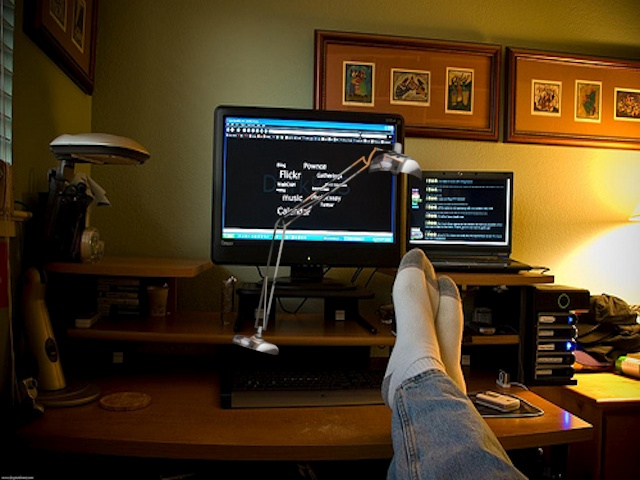desk_lamp: (225, 137, 428, 368)
